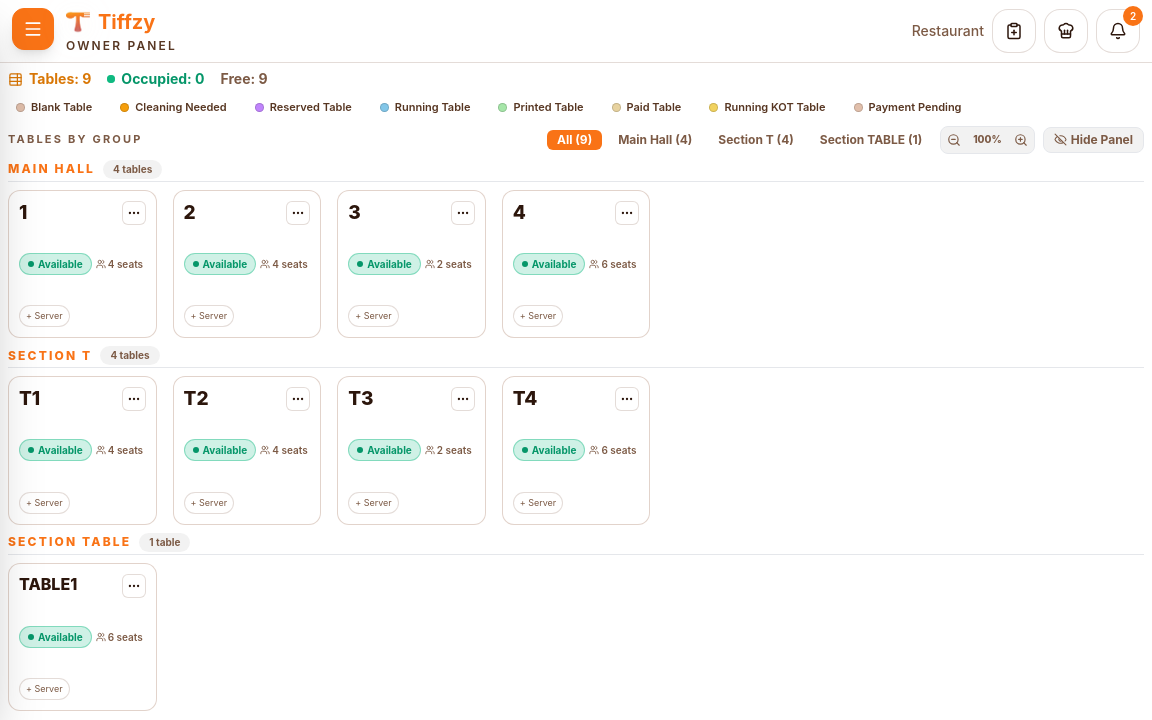
Test: COMPLETE FUNCTIONAL QA AUDIT: Owner Dashboard (/owner) › TC-06: Hide/Show Live Orders Panel
Click the button titled "Hide Live Orders Column": (1093, 140) [1043,126,1144,152]
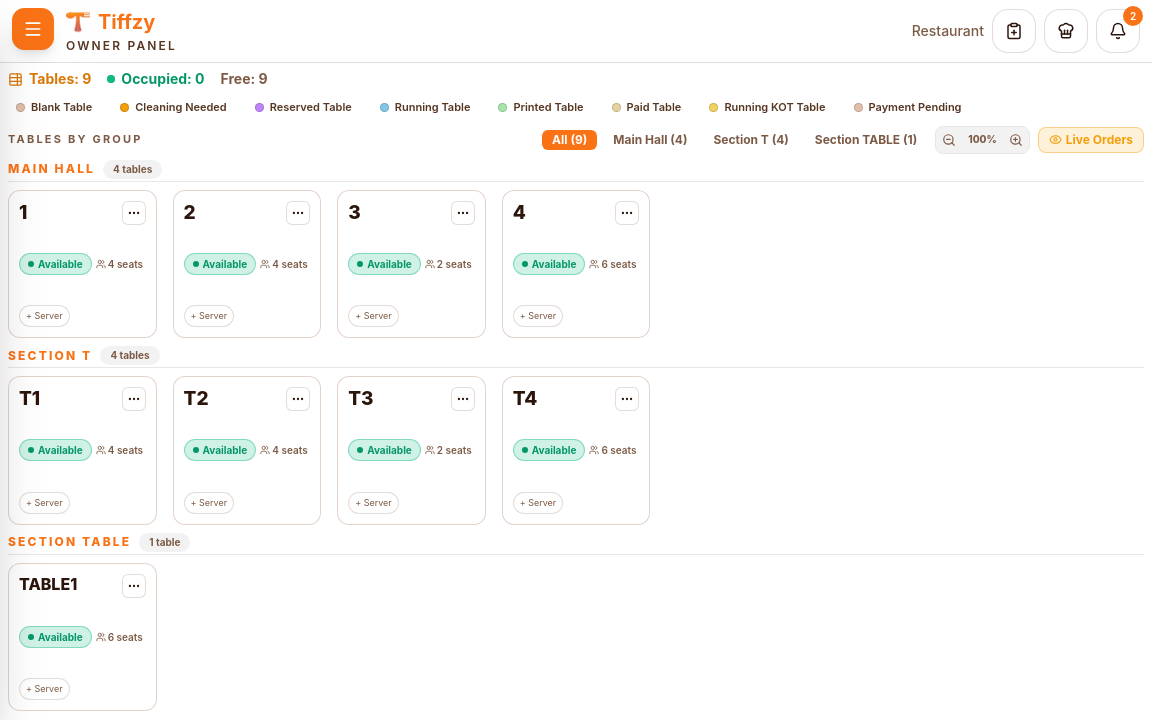
Check: the button titled "Show Live Orders Column" is shown
Click the button titled "Show Live Orders Column": (1091, 140) [1038,126,1144,152]
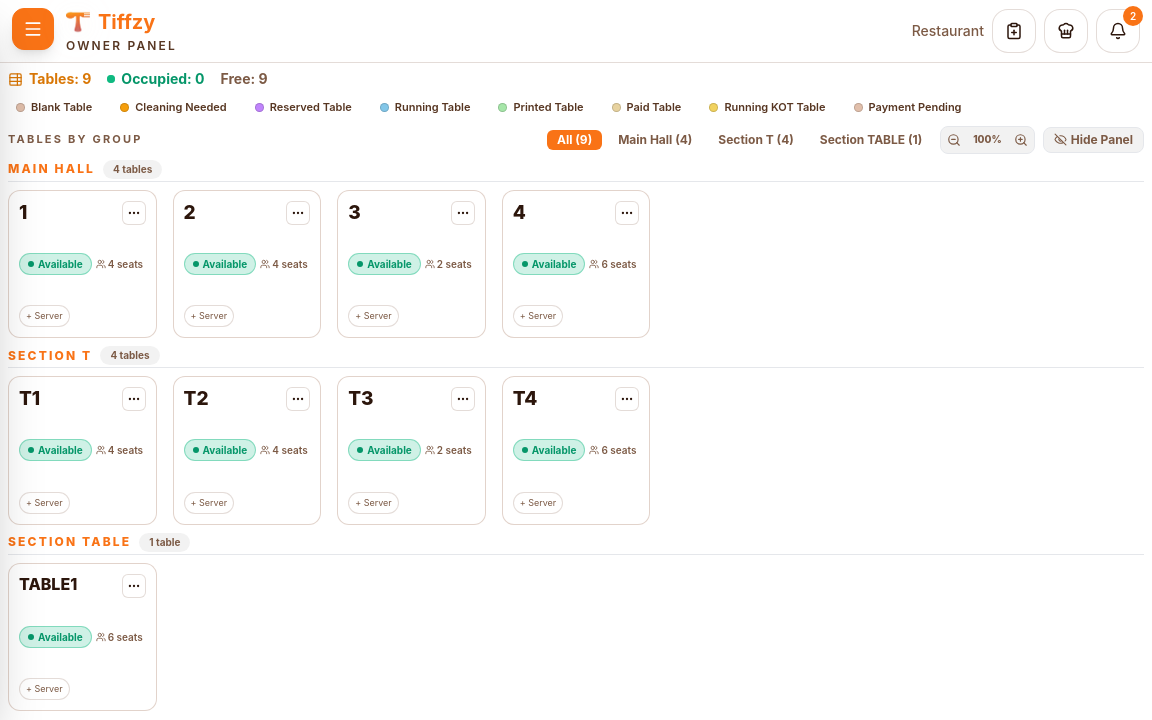
Check: the button titled "Hide Live Orders Column" is shown, box [1043,126,1144,152]
